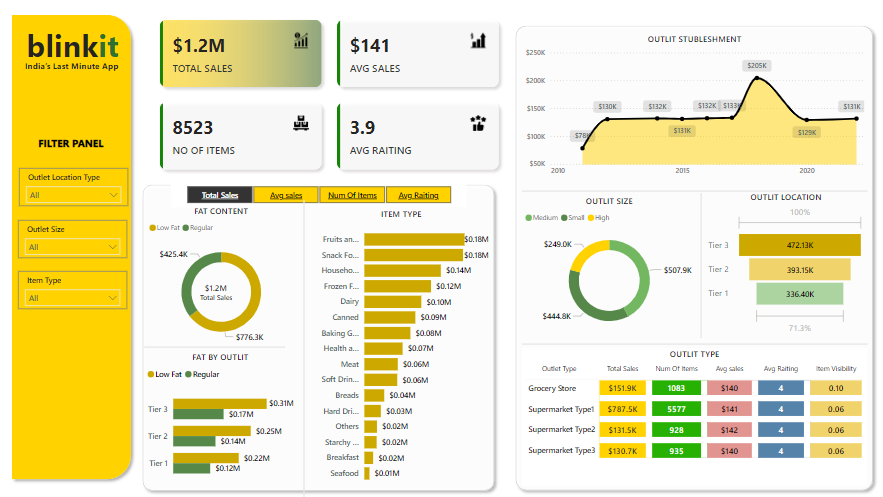

Layout of this report page (visuals, bound fields, positions):
{"tool":"powerbi","page":{"name":"Page 1","canvas":[1400,800],"ordinal":0},"visuals":[{"type":"shape","box":[12.9,25.7,205.8,749.6],"z":1},{"type":"textbox","box":[33.1,44.1,169,75.3],"z":2},{"type":"textbox","box":[31.2,101,169,36.7],"z":3},{"type":"cardVisual","fields":{"Data":["BlinkIT Grocery Data.Total Sales","BlinkIT Grocery Data.Avg sales","BlinkIT Grocery Data.Num Of Items","BlinkIT Grocery Data.Avg Raiting"]},"box":[237,25.7,569.6,270.1],"z":4},{"type":"shape","box":[218.6,292.1,571.4,499.7],"z":5},{"type":"donutChart","title":"FAT CONTENT","fields":{"Category":["BlinkIT Grocery Data.Item Fat Content"],"Y":["BlinkIT Grocery Data.Total Sales"]},"box":[233.3,334.4,237,229.7],"z":6},{"type":"slicer","fields":{"Values":["Metrics.Metrics"]},"box":[271.9,297.6,464.8,40.4],"z":7},{"type":"cardVisual","fields":{"Data":["BlinkIT Grocery Data.Total Sales"]},"box":[292.1,437.3,101,51.4],"z":8},{"type":"clusteredBarChart","title":"FAT BY OUTLIT","fields":{"Y":["BlinkIT Grocery Data.Total Sales"],"Category":["BlinkIT Grocery Data.Outlet Location Type"],"Series":["BlinkIT Grocery Data.Item Fat Content"]},"box":[229.7,564,240.7,216.8],"z":9},{"type":"shape","box":[229.7,551.2,222.3,12.9],"z":10},{"type":"shape","box":[470.3,325.2,22,474],"z":11},{"type":"barChart","title":"ITEM TYPE","fields":{"Category":["BlinkIT Grocery Data.Item Type"],"Y":["BlinkIT Grocery Data.Total Sales"]},"box":[492.4,338.1,284.8,442.8],"z":12},{"type":"shape","box":[806.6,42.3,580.6,749.6],"z":13},{"type":"lineChart","title":"OUTLIT STUBLESHMENT","fields":{"Category":["BlinkIT Grocery Data.Outlet Establishment Year"],"Y":["BlinkIT Grocery Data.Total Sales"]},"box":[824.9,62.5,543.8,235.2],"z":14},{"type":"shape","box":[824.9,305,543.8,12.9],"z":15},{"type":"donutChart","title":"OUTLIT SIZE","fields":{"Y":["BlinkIT Grocery Data.Total Sales"],"Category":["BlinkIT Grocery Data.Outlet Size"]},"box":[824.9,317.8,275,225],"z":16},{"type":"shape","box":[1100.5,314.2,12.9,227.8],"z":17},{"type":"funnel","title":"OUTLIT LOCATION","fields":{"Y":["Sum(BlinkIT Grocery Data.Sales)"],"Category":["BlinkIT Grocery Data.Outlet Location Type"]},"box":[1113.4,312.3,255.4,229.7],"z":18},{"type":"shape","box":[824.9,545.7,543.8,12.9],"z":19},{"type":"pivotTable","title":"OUTLIT TYPE","fields":{"Rows":["BlinkIT Grocery Data.Outlet Type"],"Values":["BlinkIT Grocery Data.Total Sales","BlinkIT Grocery Data.Num Of Items","BlinkIT Grocery Data.Avg sales","BlinkIT Grocery Data.Avg Raiting","Avg(BlinkIT Grocery Data.Item Visibility)"]},"box":[824.9,558.5,543.8,216.8],"z":20},{"type":"slicer","fields":{"Values":["BlinkIT Grocery Data.Outlet Location Type"]},"box":[33.1,275.6,171.7,59.8],"z":21},{"type":"slicer","fields":{"Values":["BlinkIT Grocery Data.Outlet Size"]},"box":[31.5,357.5,171.7,59.8],"z":22},{"type":"slicer","fields":{"Values":["BlinkIT Grocery Data.Item Type"]},"box":[31.5,437.8,171.7,59.8],"z":23},{"type":"textbox","box":[58.3,220.5,141.7,36.2],"z":24}]}

Visuals, with their boxes in screenshot pixels (x1, y1, x2, y2), scaled from the page's 1400x800 canvas onto the 883x497 screenshot:
shape: crop(8, 16, 138, 482)
textbox: crop(21, 27, 127, 74)
textbox: crop(20, 63, 126, 86)
cardVisual - BlinkIT Grocery Data.Total Sales x BlinkIT Grocery Data.Avg sales: crop(149, 16, 509, 184)
shape: crop(138, 181, 498, 492)
"FAT CONTENT" donutChart: crop(147, 208, 297, 350)
slicer - Metrics.Metrics: crop(171, 185, 465, 210)
cardVisual - BlinkIT Grocery Data.Total Sales: crop(184, 272, 248, 304)
"FAT BY OUTLIT" clusteredBarChart: crop(145, 350, 297, 485)
shape: crop(145, 342, 285, 350)
shape: crop(297, 202, 311, 496)
"ITEM TYPE" barChart: crop(311, 210, 490, 485)
shape: crop(509, 26, 875, 492)
"OUTLIT STUBLESHMENT" lineChart: crop(520, 39, 863, 185)
shape: crop(520, 189, 863, 197)
"OUTLIT SIZE" donutChart: crop(520, 197, 694, 337)
shape: crop(694, 195, 702, 337)
"OUTLIT LOCATION" funnel: crop(702, 194, 863, 337)
shape: crop(520, 339, 863, 347)
"OUTLIT TYPE" pivotTable: crop(520, 347, 863, 482)
slicer - BlinkIT Grocery Data.Outlet Location Type: crop(21, 171, 129, 208)
slicer - BlinkIT Grocery Data.Outlet Size: crop(20, 222, 128, 259)
slicer - BlinkIT Grocery Data.Item Type: crop(20, 272, 128, 309)
textbox: crop(37, 137, 126, 159)
